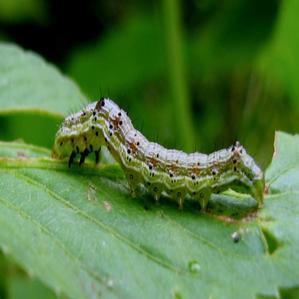Cotton bollworm: (49, 73, 277, 236)
